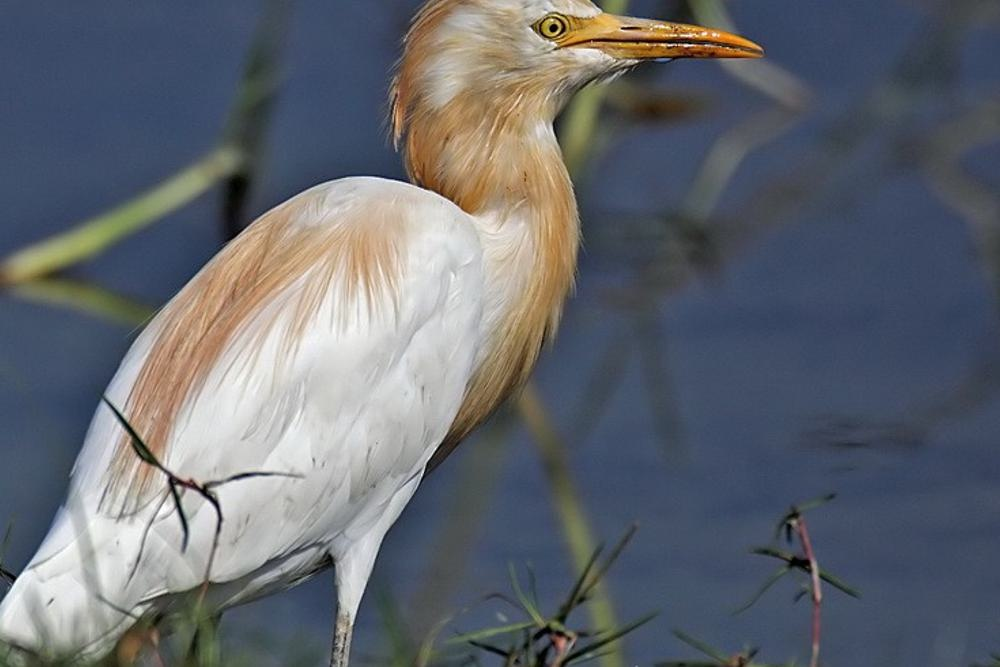egret: (1, 4, 773, 667)
